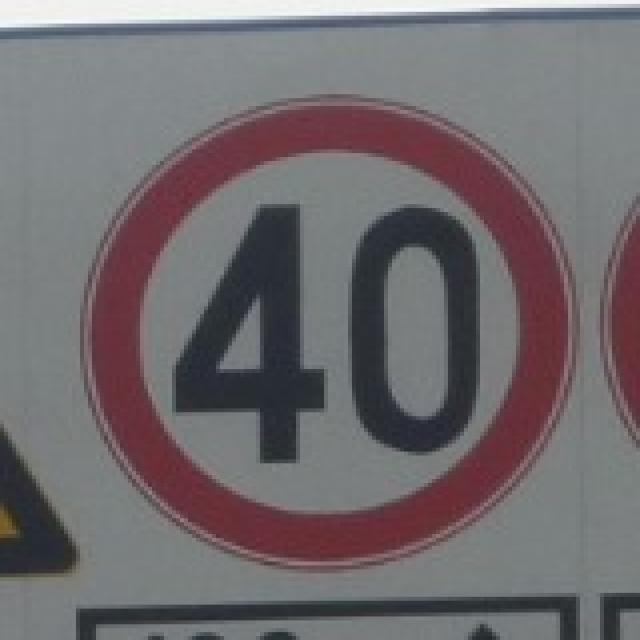Speed Limit -40-: (170, 196, 487, 468)
